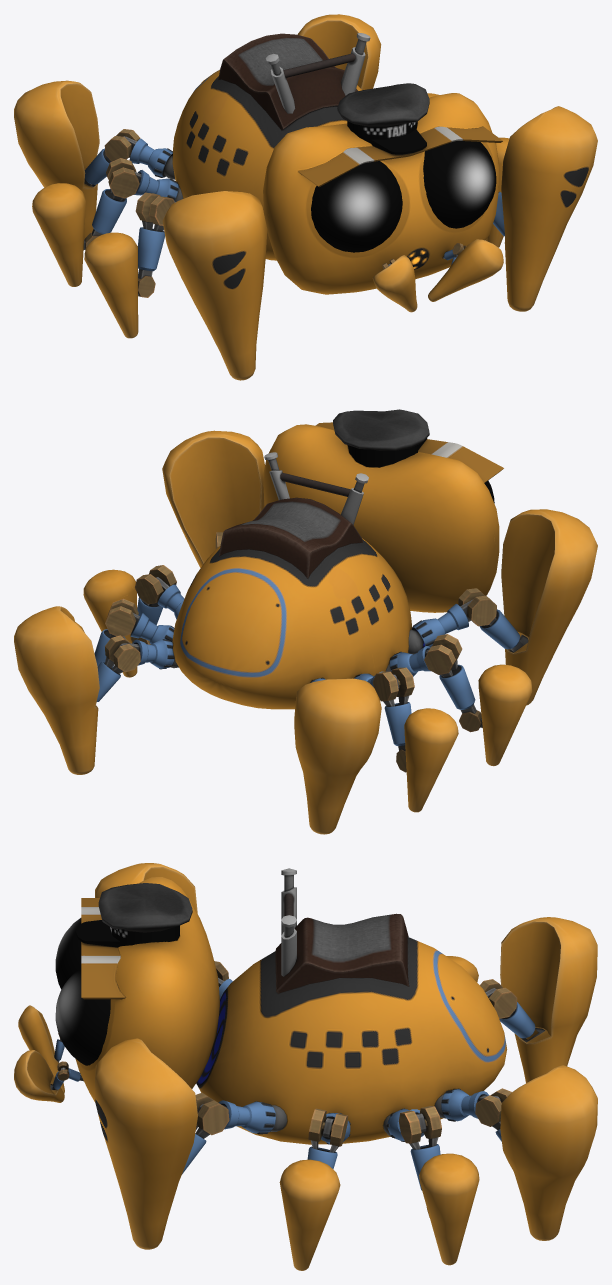
Rendered from taxi_spider_bot_cuterobotchallenge.glb.
3 renders of one model, top to bottom at view 1: azimuth 30°, elevation 25°; view 2: azimuth 150°, elevation 25°; view 3: azimuth 270°, elevation 25°, orthographic. The views are drawn at different scales.
Visible parts, largest first — view 1: Object_2, Object_3; view 2: Object_2, Object_3; view 3: Object_2, Object_3.
Boxes of the visible parts, box(x1,y1,x2,y2) form: Object_2: box(14, 14, 597, 380); Object_3: box(60, 20, 504, 297); Object_2: box(14, 409, 597, 834); Object_3: box(60, 424, 554, 750); Object_2: box(14, 863, 597, 1270); Object_3: box(37, 867, 560, 1190).
Size of the model in its own units: 209 by 115 by 217.
1 material, 1 textured.
